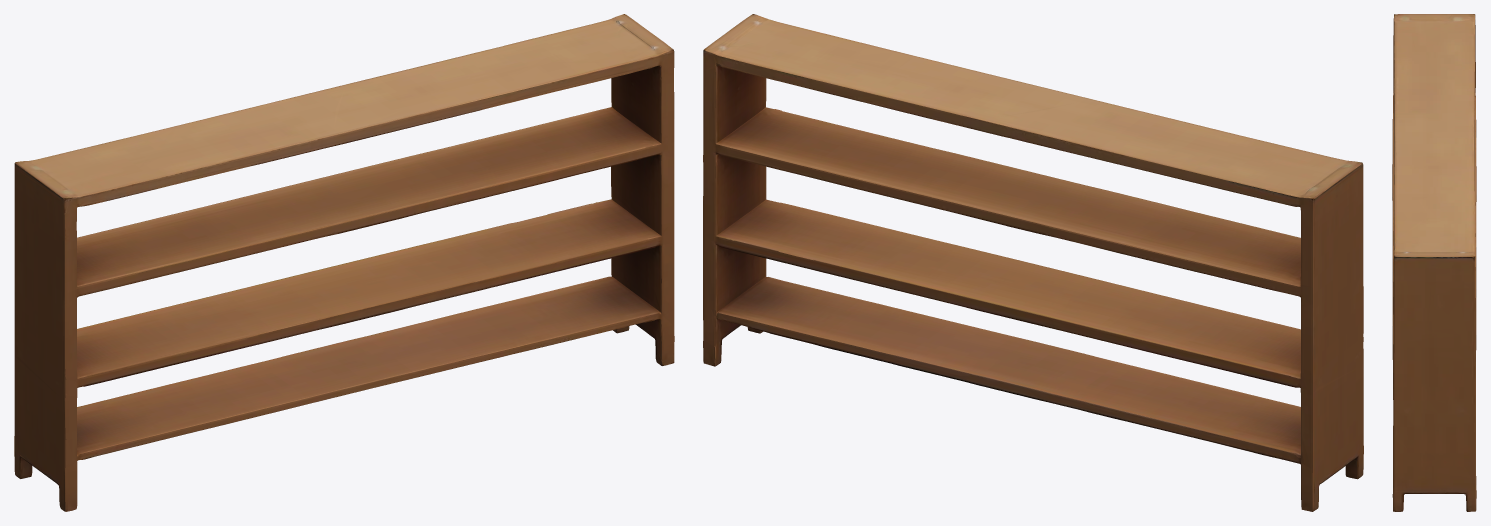
File: food_muffin_chocchip_2.glb
3 views of the same model, side by side, from view 1: azimuth 30°, elevation 25°; view 2: azimuth 150°, elevation 25°; view 3: azimuth 270°, elevation 25° (orthographic). The views are drawn at different scales.
Parts seen in each view (by area): view 1: geometry_0; view 2: geometry_0; view 3: geometry_0.
Boxes of the visible parts, x1,y1,x2,y2 form: geometry_0: (14, 14, 674, 511); geometry_0: (703, 14, 1363, 511); geometry_0: (1392, 14, 1476, 511).
Size of the model in its own units: 1 by 0.491 by 0.1466.
Materials: 1 (1 with a texture image).
